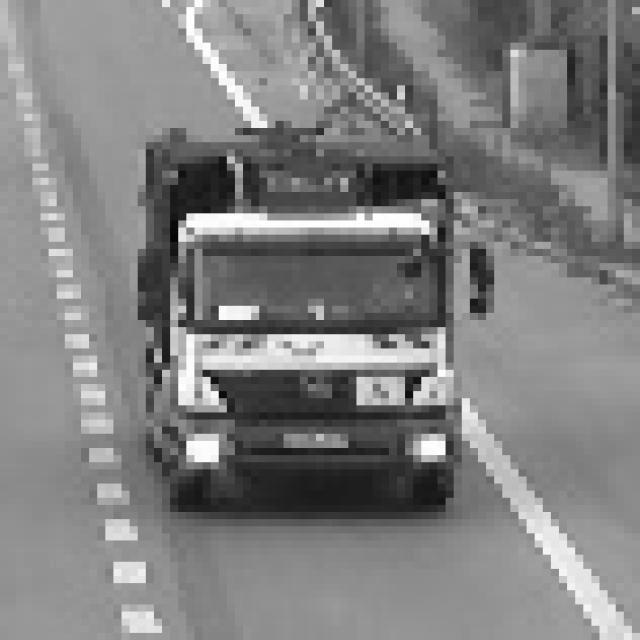truck: (128, 193, 488, 506)
